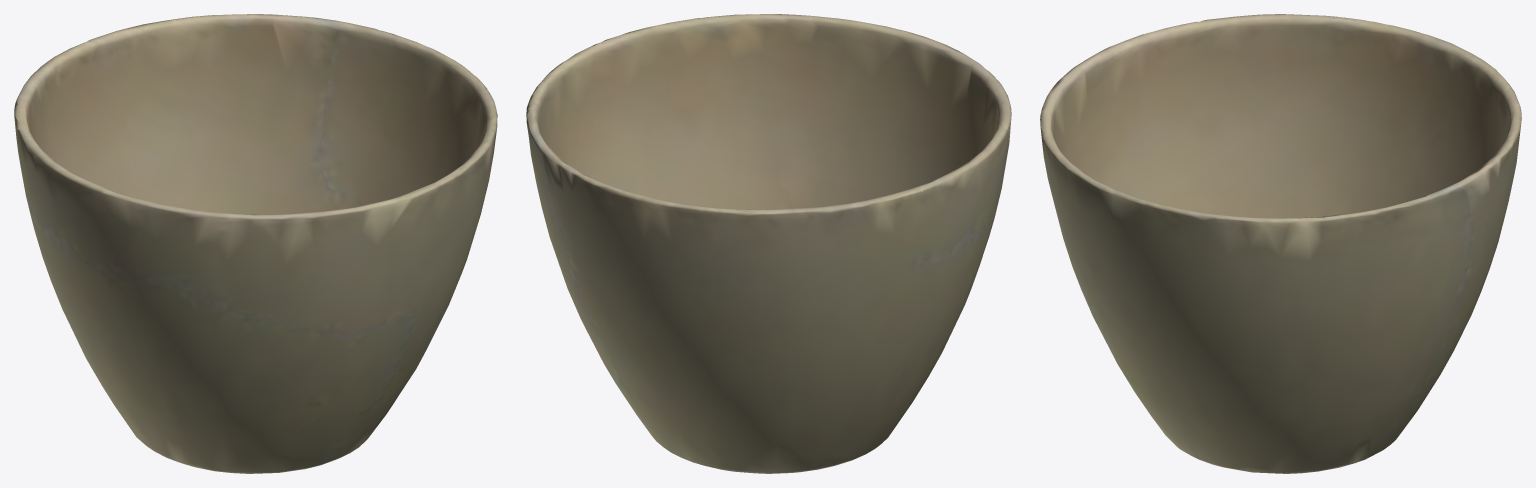
File: Ecoforms_Cup_B4_SAN-high.glb
The picture shows the model from 3 angles, left to right: view 1: azimuth 30°, elevation 25°; view 2: azimuth 150°, elevation 25°; view 3: azimuth 270°, elevation 25°; orthographic projection.
Visible parts, largest first — view 1: Ecoforms_Cup_B4_SAN; view 2: Ecoforms_Cup_B4_SAN; view 3: Ecoforms_Cup_B4_SAN.
Part boxes in pixels (x1=…): Ecoforms_Cup_B4_SAN: x1=14, y1=14, x2=497, y2=473; Ecoforms_Cup_B4_SAN: x1=526, y1=14, x2=1011, y2=473; Ecoforms_Cup_B4_SAN: x1=1040, y1=14, x2=1521, y2=473.
Size of the model in its own units: 0.0998 by 0.0716 by 0.1.
1 material, 1 textured.
